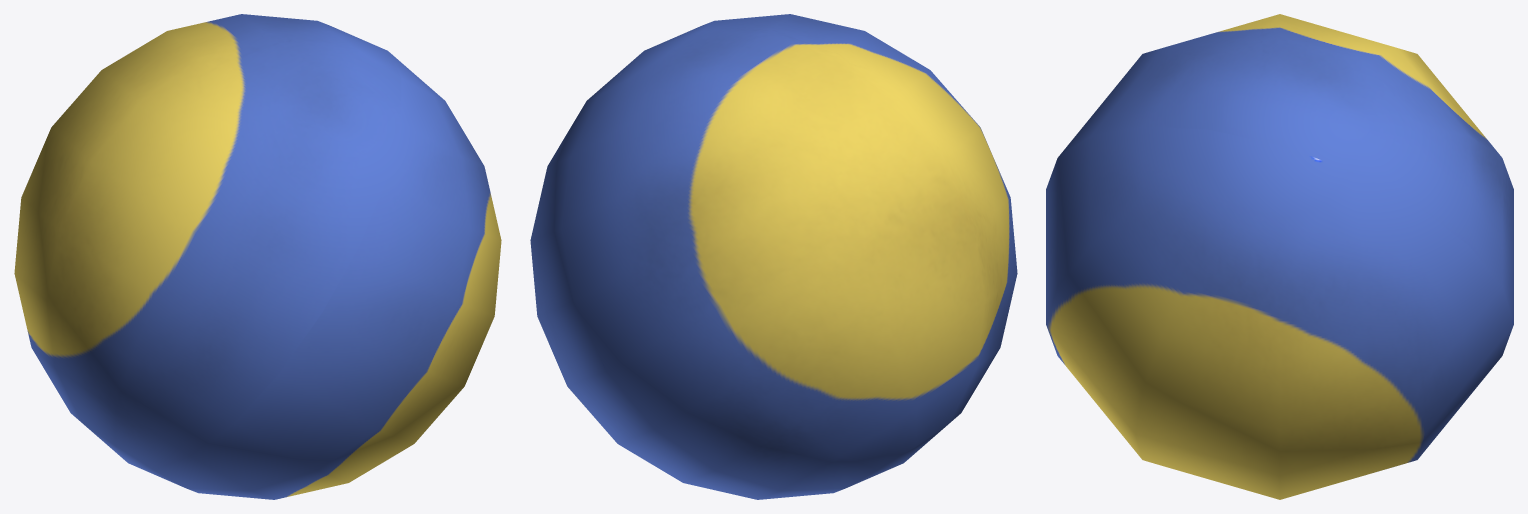
The model's file is boll.fbx.
3 views of the same model, side by side, from view 1: azimuth 30°, elevation 25°; view 2: azimuth 150°, elevation 25°; view 3: azimuth 270°, elevation 25° (orthographic).
Visible parts, largest first — view 1: pSphere1; view 2: pSphere1; view 3: pSphere1.
Boxes of the visible parts, x1,y1,x2,y2 form: pSphere1: [14, 14, 501, 499]; pSphere1: [530, 14, 1017, 499]; pSphere1: [1046, 14, 1513, 499].
Size of the model in its own units: 15.67 by 15.67 by 14.91.
